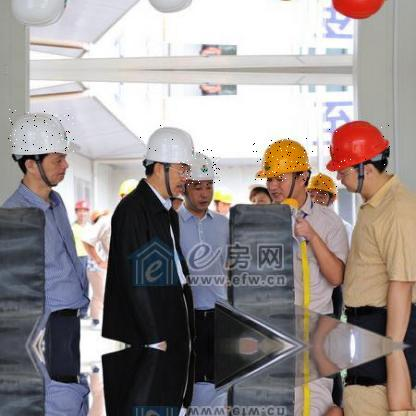safetyhelmet: (316, 119, 394, 174), (8, 108, 75, 158), (140, 123, 202, 172), (253, 137, 314, 182), (180, 150, 222, 188), (304, 164, 339, 204)
